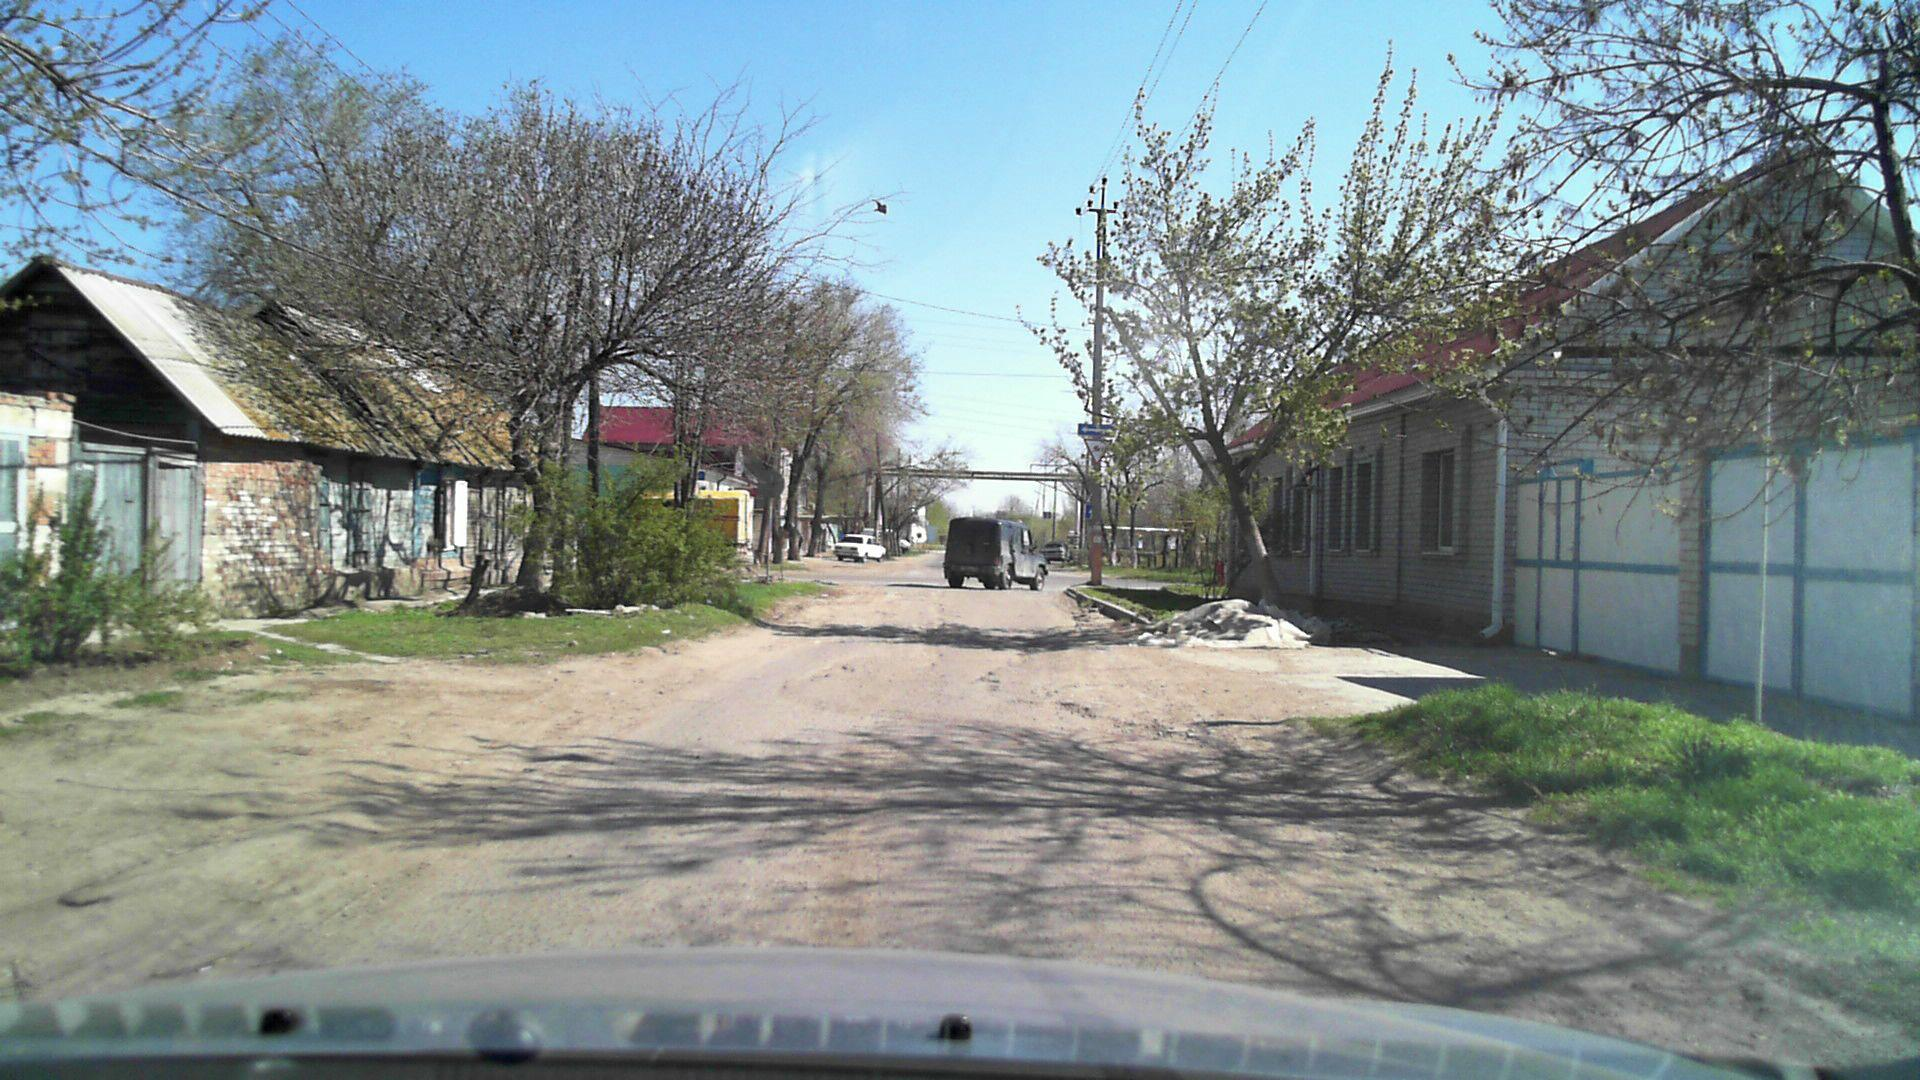2_4: (1080, 438, 1112, 464)
5_5: (1083, 502, 1096, 521)
5_7_2: (1075, 422, 1120, 438)
